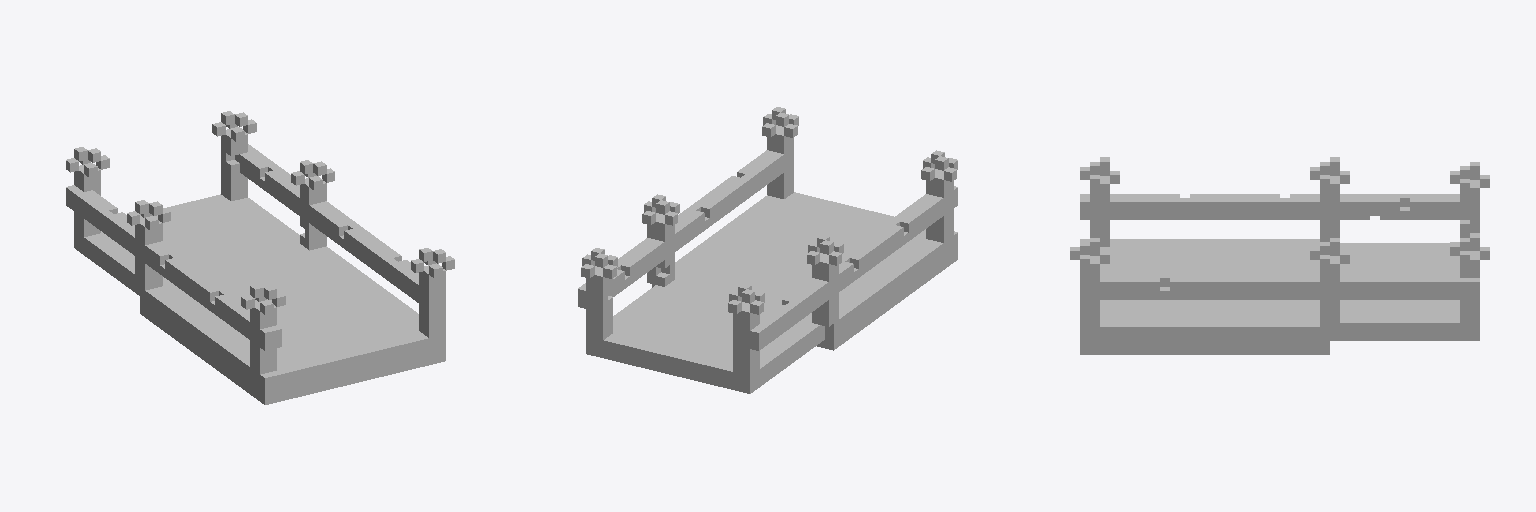
The model's file is lVL3 MOST.obj.
The picture shows the model from 3 angles: view 1: azimuth 30°, elevation 25°; view 2: azimuth 150°, elevation 25°; view 3: azimuth 270°, elevation 25°; orthographic projection.
Visible parts, largest first — view 1: lVL3 MOST; view 2: lVL3 MOST; view 3: lVL3 MOST.
Part boxes in pixels (bbox=[...]): lVL3 MOST: bbox=[66, 111, 454, 404]; lVL3 MOST: bbox=[578, 107, 957, 393]; lVL3 MOST: bbox=[1070, 157, 1489, 354].
Size of the model in its own units: 23 by 12 by 42.